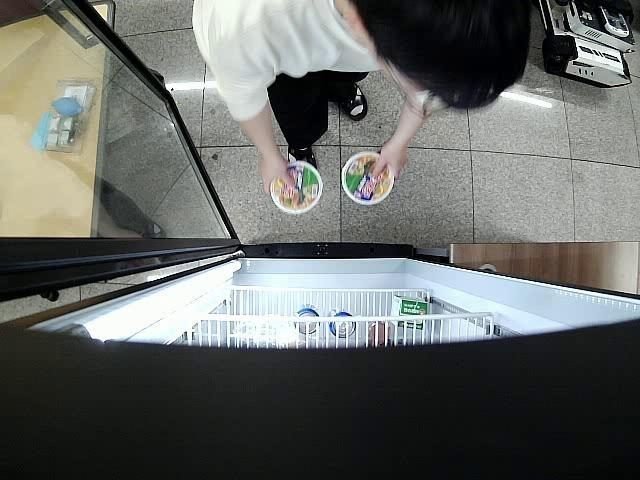09_yukGaeJang: (268, 162, 324, 216), (342, 152, 396, 206)
